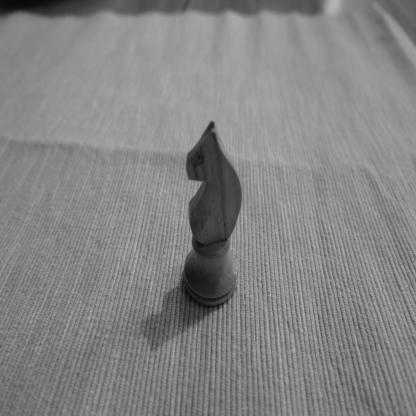white-knight: (182, 120, 244, 309)
